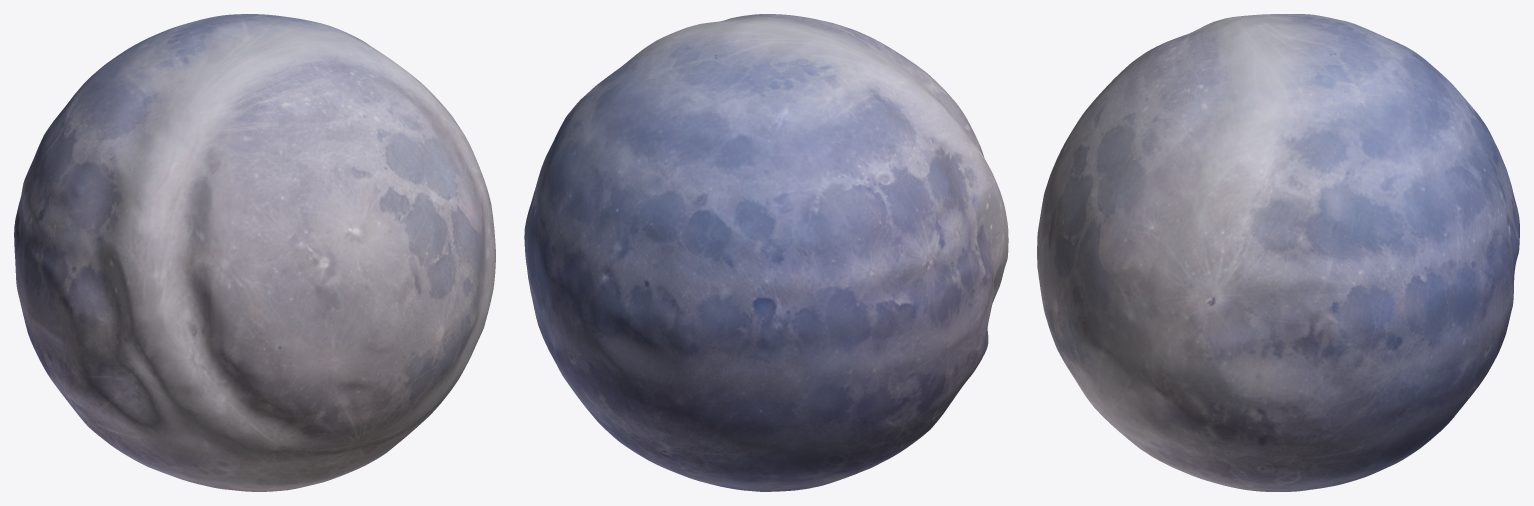
File: moon.glb
The picture shows the model from 3 angles, left to right: view 1: azimuth 30°, elevation 25°; view 2: azimuth 150°, elevation 25°; view 3: azimuth 270°, elevation 25°; orthographic projection.
Size of the model in its own units: 1.18 by 1.16 by 1.2.
Materials: 1 (1 with a texture image).
